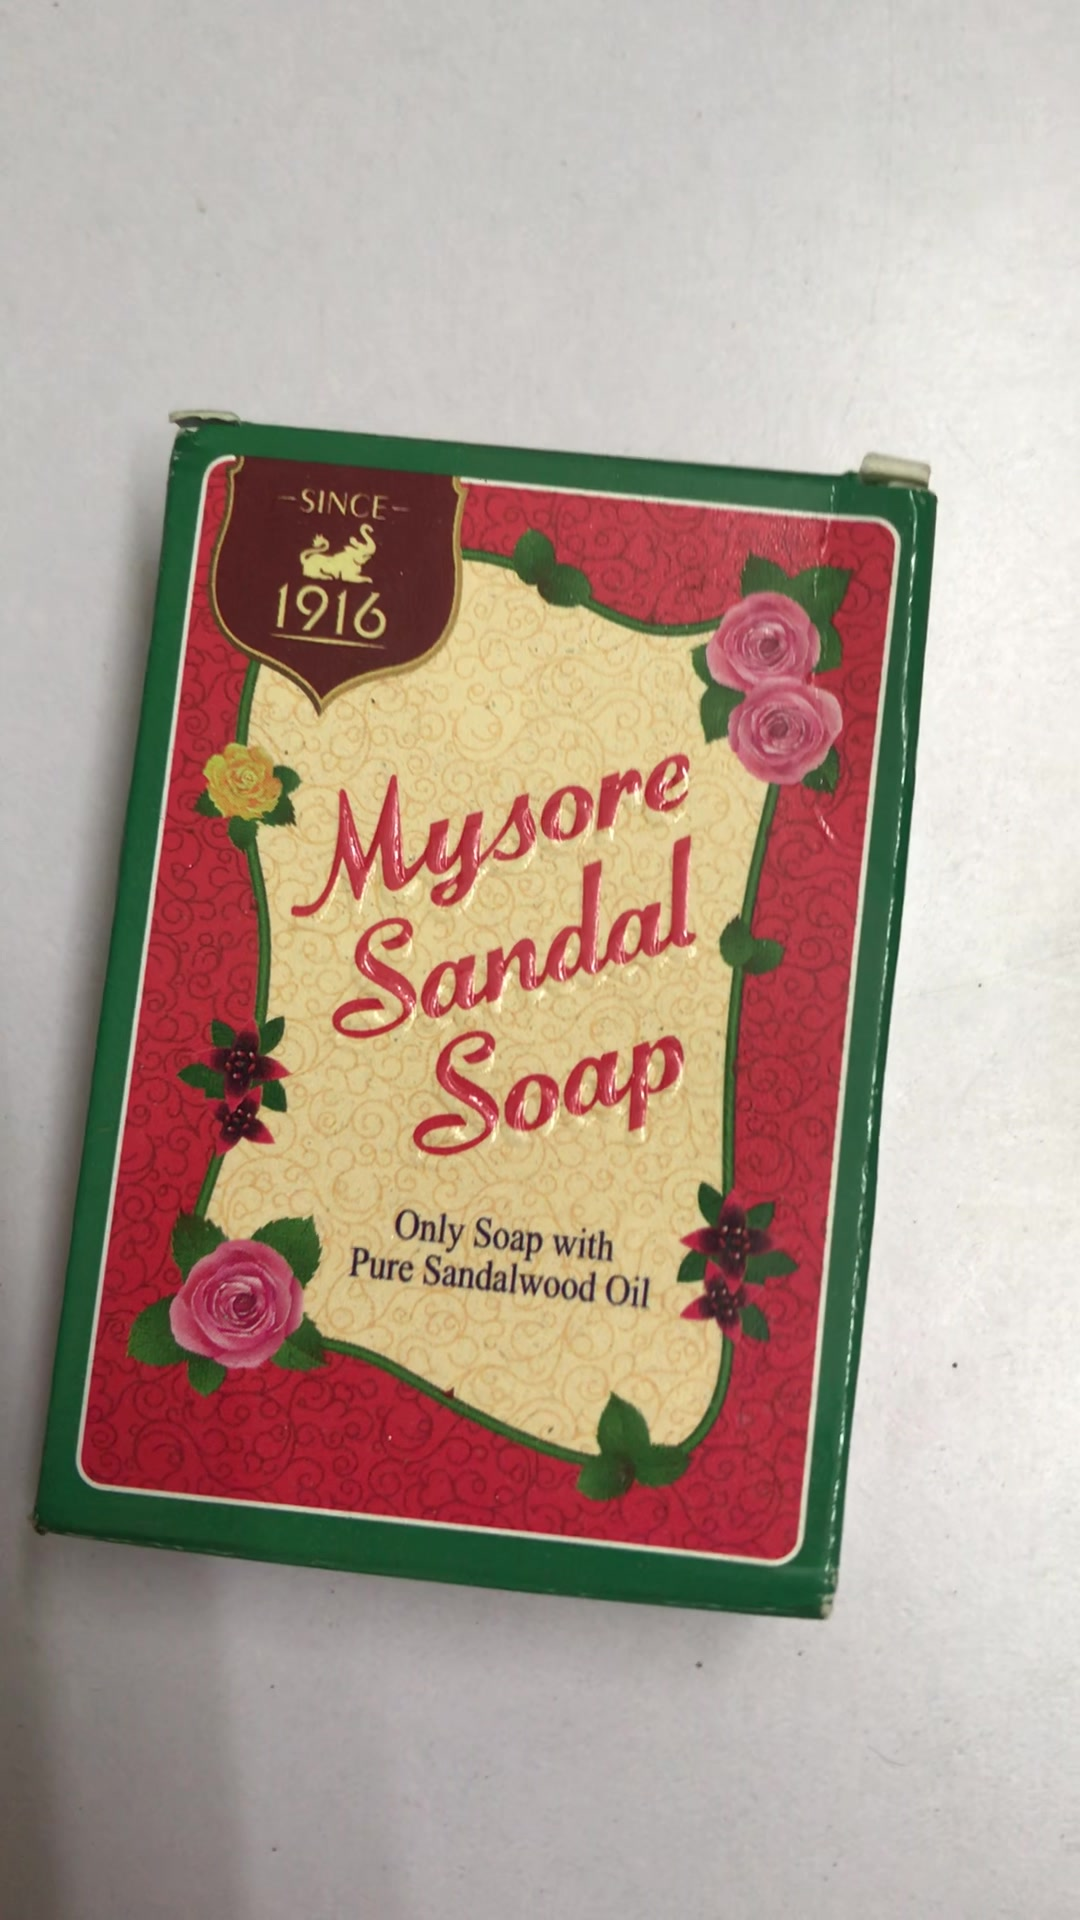mysore sandal soap: (36, 411, 930, 1617)
